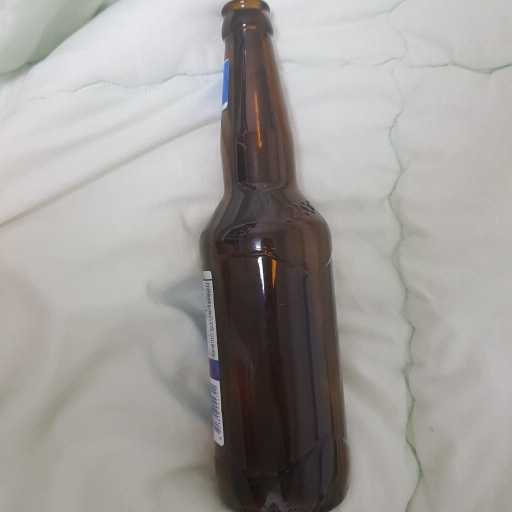Glass_1: (194, 1, 350, 512)
